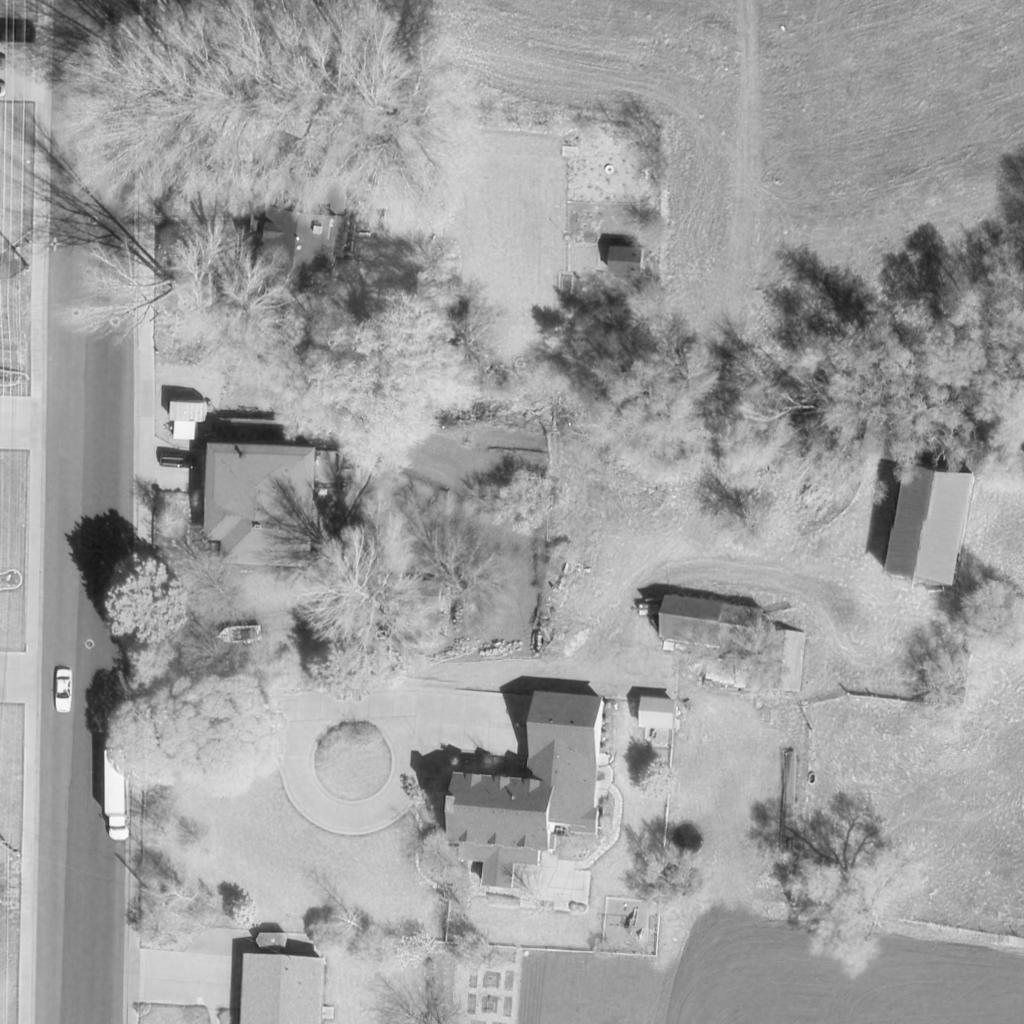vehicle: (105, 750, 133, 840), (212, 624, 264, 644), (53, 669, 73, 715), (158, 451, 202, 469)
